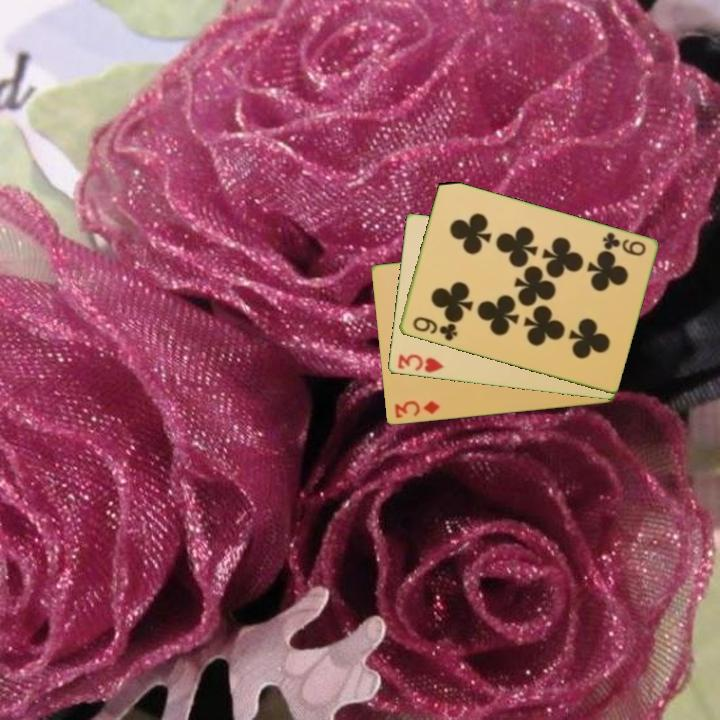3d: (391, 397, 443, 421)
3h: (394, 351, 447, 376)
9c: (409, 313, 460, 344), (598, 229, 648, 259)
